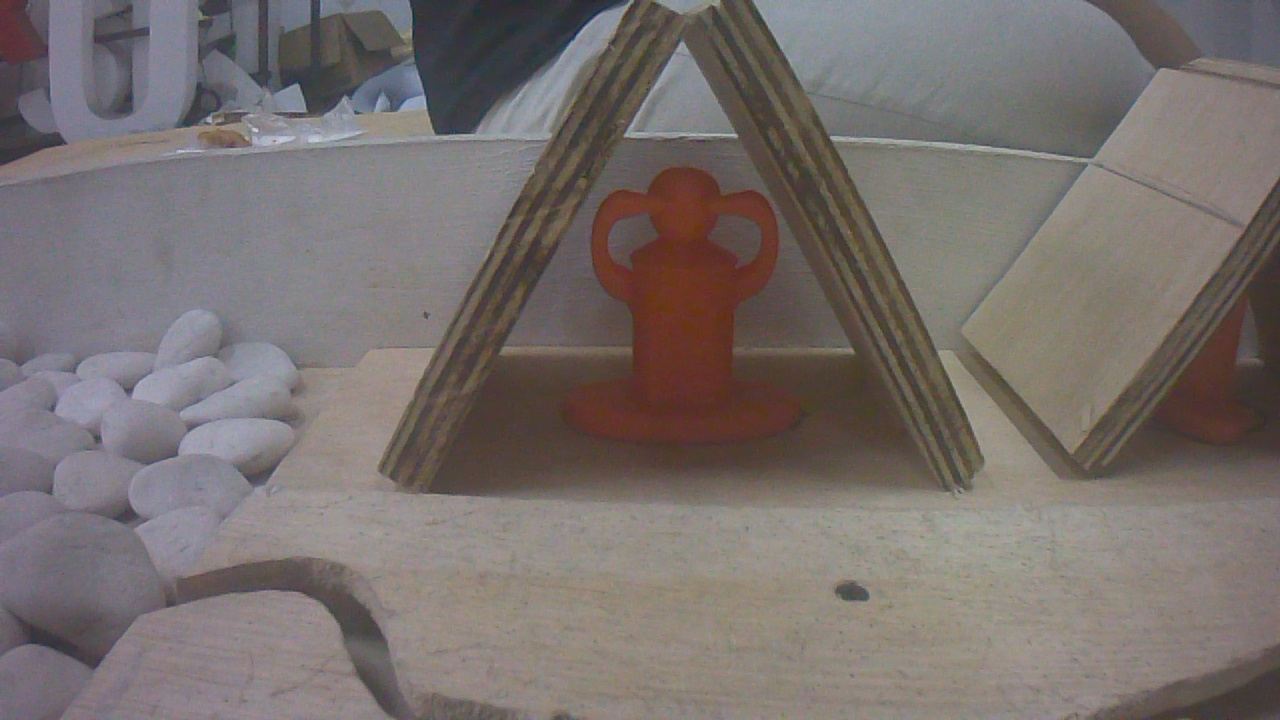real: (578, 158, 795, 455)
